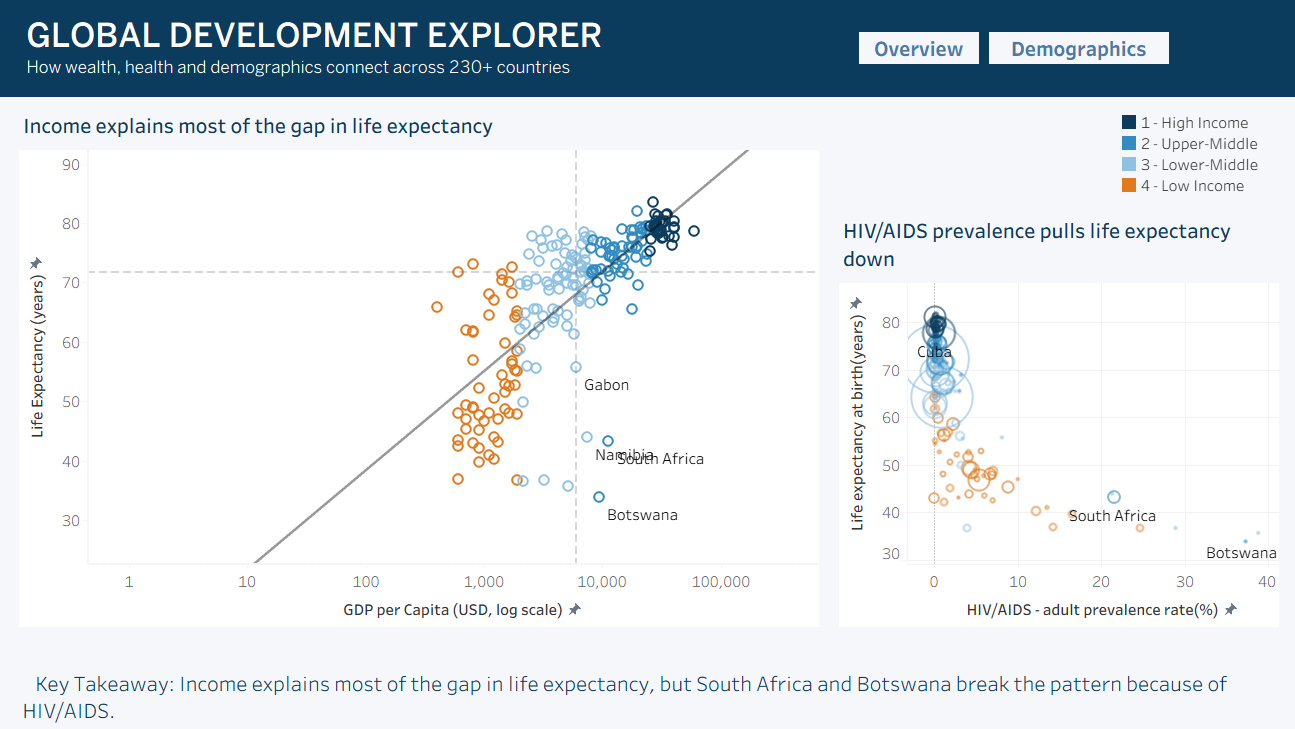

The dashboard page shown, as its layout file describes it:
{"tool":"tableau","page":{"name":"Wealth vs Health","canvas":[1300,800],"ordinal":3},"visuals":[{"type":"text","box":[0,0,1300,100]},{"type":"dashboard-object","box":[860,35,120,32]},{"type":"dashboard-object","box":[990,35,180,32]},{"type":"worksheet","title":"Scatter - GDP vs Life Expectancy","mark":"Automatic","rows":["Life expectancy at birth(years)"],"cols":["GDP - per capita"],"box":[20,110,800,520]},{"type":"legend","title":"Scatter - GDP vs Life Expectancy","param":"[federated.0q8atft0r1wttc118wfz90tcrx2s].[none:Calculation_0857673347284992:nk]","box":[1120,115,160,90]},{"type":"worksheet","title":"Bubble - HIV vs Life Expectancy","mark":"Automatic","rows":["Life expectancy at birth(years)"],"cols":["HIV/AIDS - adult prevalence rate(%)"],"box":[840,215,440,415]},{"type":"text","box":[20,650,1260,100]}]}

Visuals, with their boxes on the page's 1300x800 design canvas (x1, y1, x2, y2). These are canvas units, not pixel positions in the 1295x729 screenshot, which may show the page scaled, cropped or inside an application window:
text: x1=0, y1=0, x2=1300, y2=100
dashboard-object: x1=860, y1=35, x2=980, y2=67
dashboard-object: x1=990, y1=35, x2=1170, y2=67
"Scatter - GDP vs Life Expectancy" worksheet: x1=20, y1=110, x2=820, y2=630
"Scatter - GDP vs Life Expectancy" legend: x1=1120, y1=115, x2=1280, y2=205
"Bubble - HIV vs Life Expectancy" worksheet: x1=840, y1=215, x2=1280, y2=630
text: x1=20, y1=650, x2=1280, y2=750
